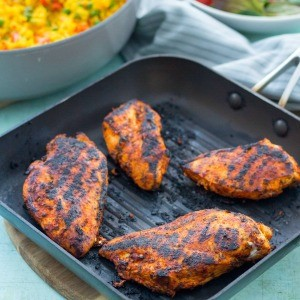chicken breast_brain food: (126, 221, 239, 286), (35, 142, 97, 241), (117, 104, 164, 179), (201, 151, 290, 190)
